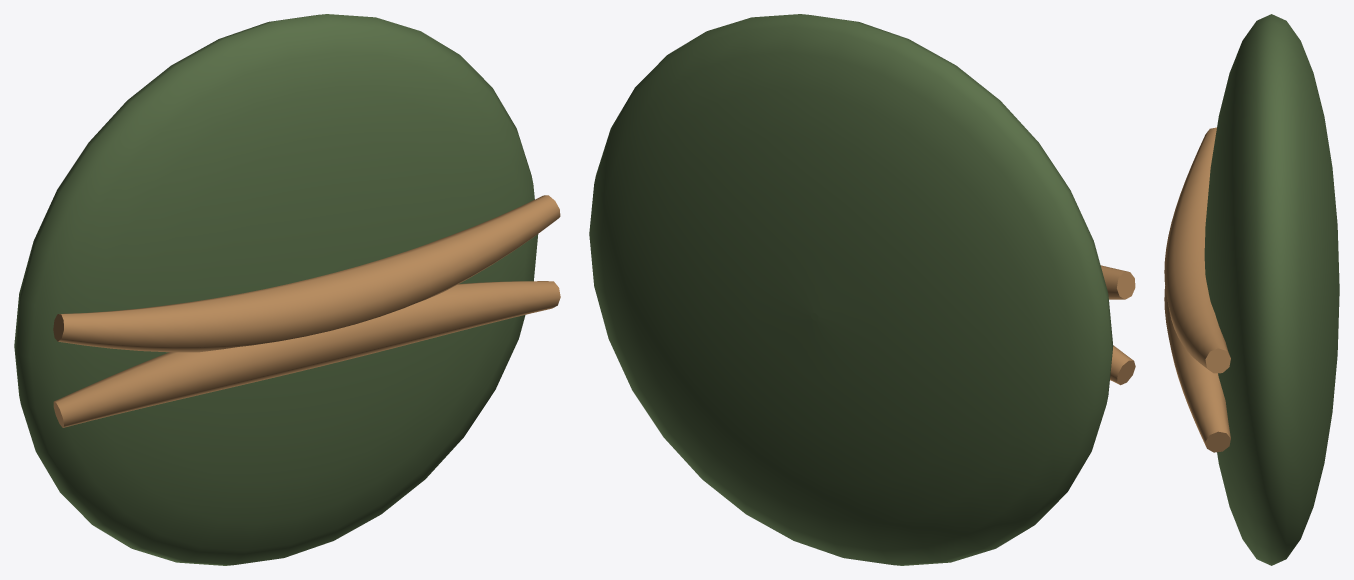
The model's file is boss_membrane.glb.
3 views of the same model, side by side, from view 1: azimuth 30°, elevation 25°; view 2: azimuth 150°, elevation 25°; view 3: azimuth 270°, elevation 25° (orthographic). The views are drawn at different scales.
Parts seen in each view (by area): view 1: boss_membrane; view 2: boss_membrane; view 3: boss_membrane.
Boxes of the visible parts, left/top/right/bottom form: boss_membrane: left=14, top=14, right=560, bottom=565; boss_membrane: left=589, top=14, right=1135, bottom=565; boss_membrane: left=1164, top=14, right=1339, bottom=565.
Size of the model in its own units: 1.48 by 1.46 by 0.4638.
